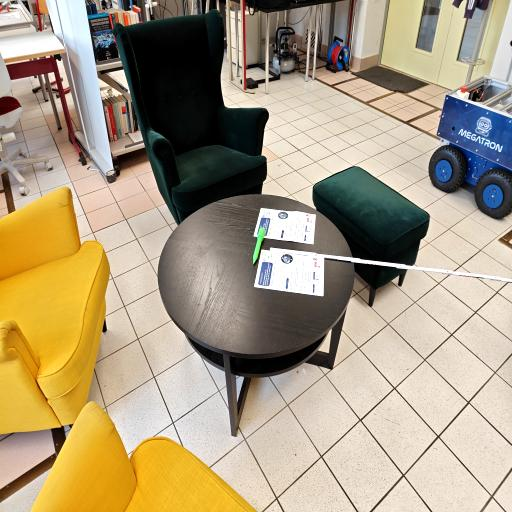Probe-Detection: (253, 227, 265, 264)
